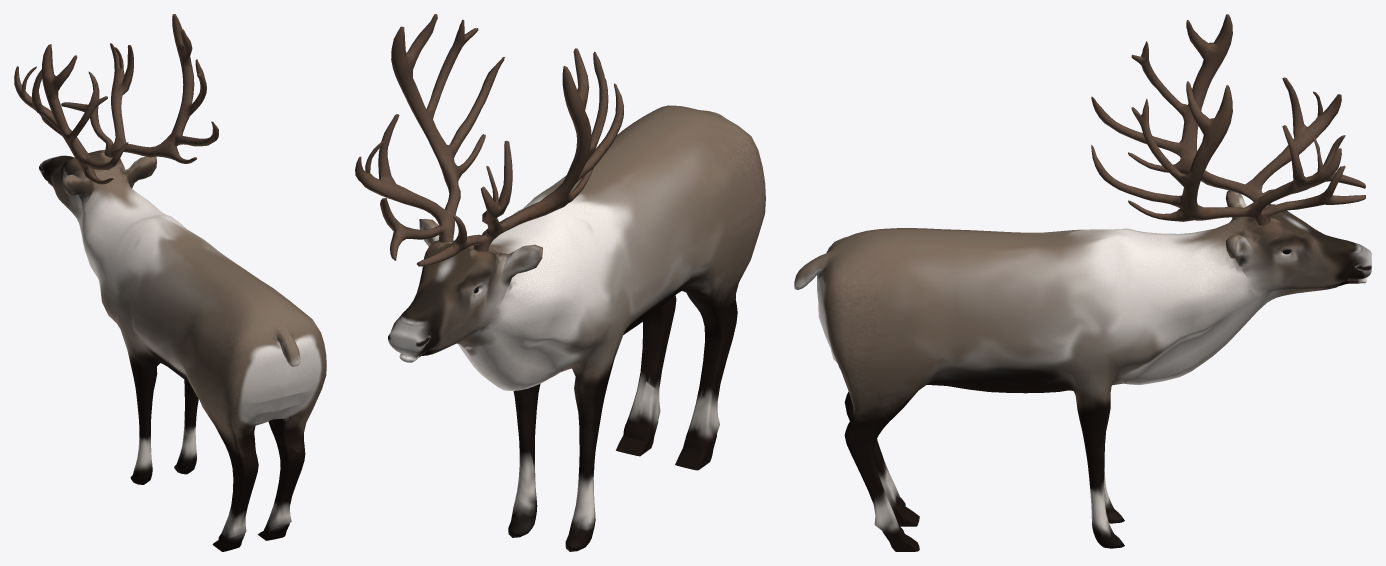
Rendered from CaribouFBX.fbx.
3 renders of one model, left to right at view 1: azimuth 30°, elevation 25°; view 2: azimuth 150°, elevation 25°; view 3: azimuth 270°, elevation 25°, orthographic. The views are drawn at different scales.
Visible parts, largest first — view 1: Caribou, RightAntler, LeftAntler; view 2: Caribou, RightAntler, LeftAntler; view 3: Caribou, RightAntler, LeftAntler.
Boxes of the visible parts, box(x1,y1,x2,y2) form: Caribou: box(39, 149, 326, 551); RightAntler: box(61, 14, 218, 163); LeftAntler: box(14, 44, 128, 184); Caribou: box(388, 105, 765, 551); RightAntler: box(355, 14, 504, 260); LeftAntler: box(417, 48, 623, 266); Caribou: box(794, 190, 1371, 551); RightAntler: box(1091, 81, 1365, 225); LeftAntler: box(1091, 14, 1365, 208).
Bounding box in the file's own units: 0.2084 × 0.5732 × 0.6199.
1 material, 1 textured.
